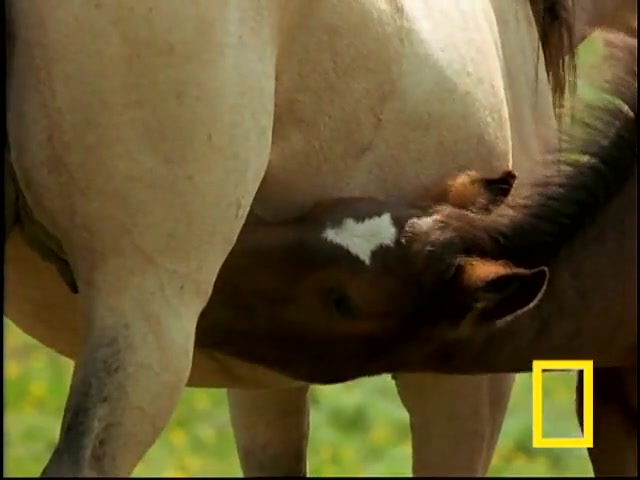horse: (195, 59, 640, 480)
